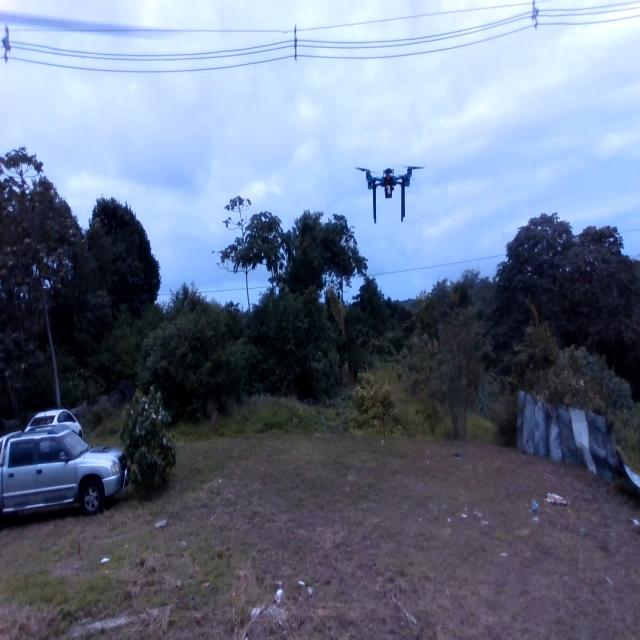-uav-: (342, 148, 438, 228)
